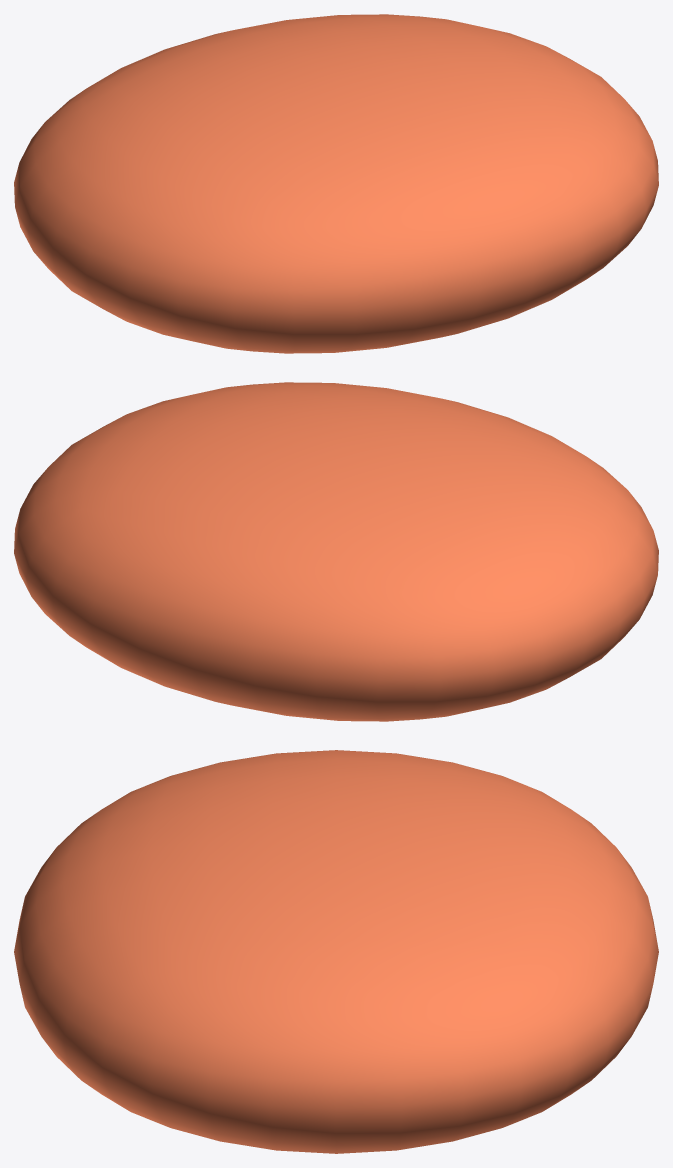
The model's file is Plant_Life_Blob_2.fbx.
3 views of the same model, one above another, from view 1: azimuth 30°, elevation 25°; view 2: azimuth 150°, elevation 25°; view 3: azimuth 270°, elevation 25° (orthographic). The views are drawn at different scales.
Parts seen in each view (by area): view 1: Cube; view 2: Cube; view 3: Cube.
Part boxes in pixels (x1,y1,x2,y2): Cube: (14,14,658,353); Cube: (14,382,658,721); Cube: (14,750,658,1153).
Size of the model in its own units: 1128 by 406 by 982.
